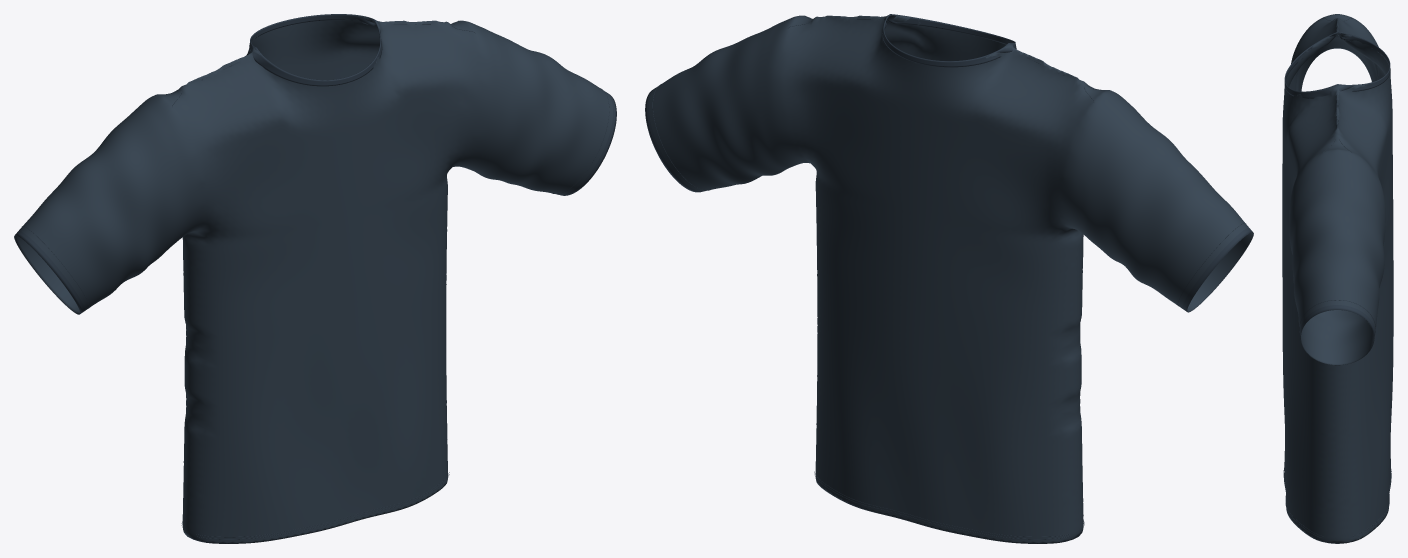
Rendered from tee-regular.glb.
The picture shows the model from 3 angles, left to right: view 1: azimuth 30°, elevation 25°; view 2: azimuth 150°, elevation 25°; view 3: azimuth 270°, elevation 25°; orthographic projection. The views are drawn at different scales.
Parts seen in each view (by area): view 1: tee-regular, Collar; view 2: tee-regular, Collar; view 3: tee-regular, Collar.
Part boxes in pixels (left/top/right/bottom): tee-regular: left=14, top=17, right=616, bottom=543; Collar: left=249, top=14, right=382, bottom=86; tee-regular: left=645, top=15, right=1253, bottom=543; Collar: left=882, top=14, right=1016, bottom=67; tee-regular: left=1282, top=14, right=1393, bottom=543; Collar: left=1284, top=32, right=1390, bottom=98.
Bounding box in the file's own units: 1.76 × 1.34 × 0.3152.
